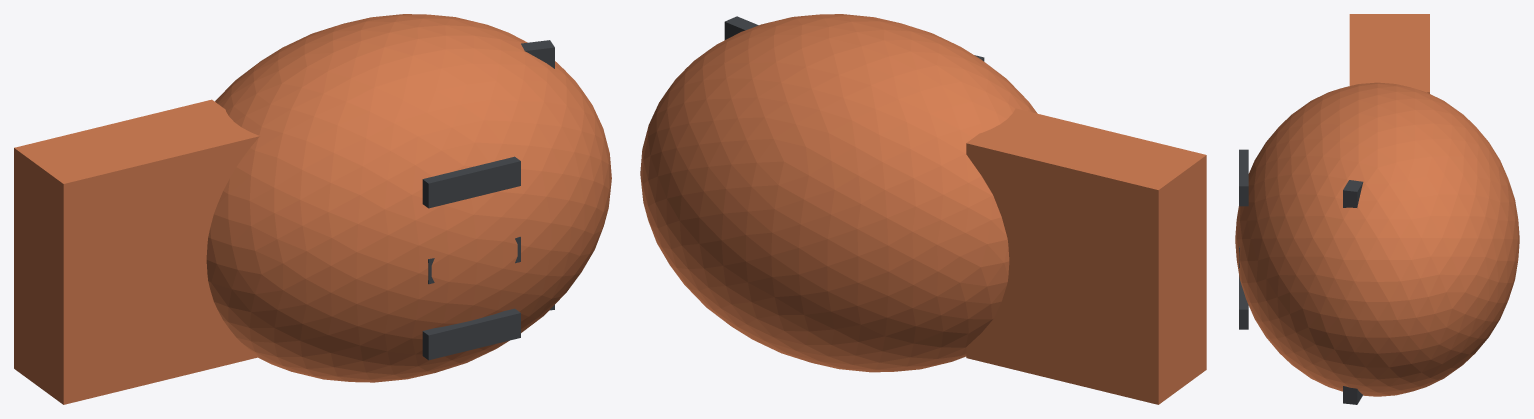
3 renders of one model, left to right at view 1: azimuth 30°, elevation 25°; view 2: azimuth 150°, elevation 25°; view 3: azimuth 270°, elevation 25°, orthographic. The views are drawn at different scales.
Visible parts, largest first — view 1: geometry_0; view 2: geometry_0; view 3: geometry_0.
Boxes of the visible parts, x1,y1,x2,y2 form: geometry_0: (14, 14, 611, 404); geometry_0: (640, 14, 1206, 404); geometry_0: (1235, 14, 1519, 404).
Size of the model in its own units: 0.415 by 0.24 by 0.23.
